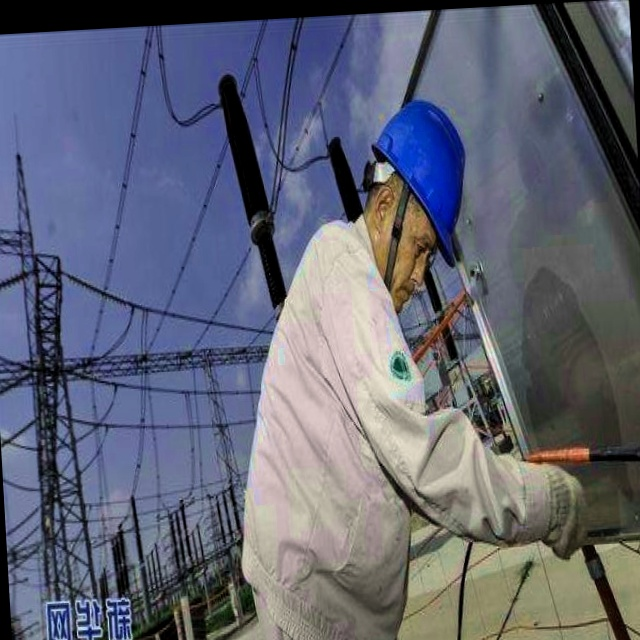Con_Casco: (366, 100, 472, 302)
